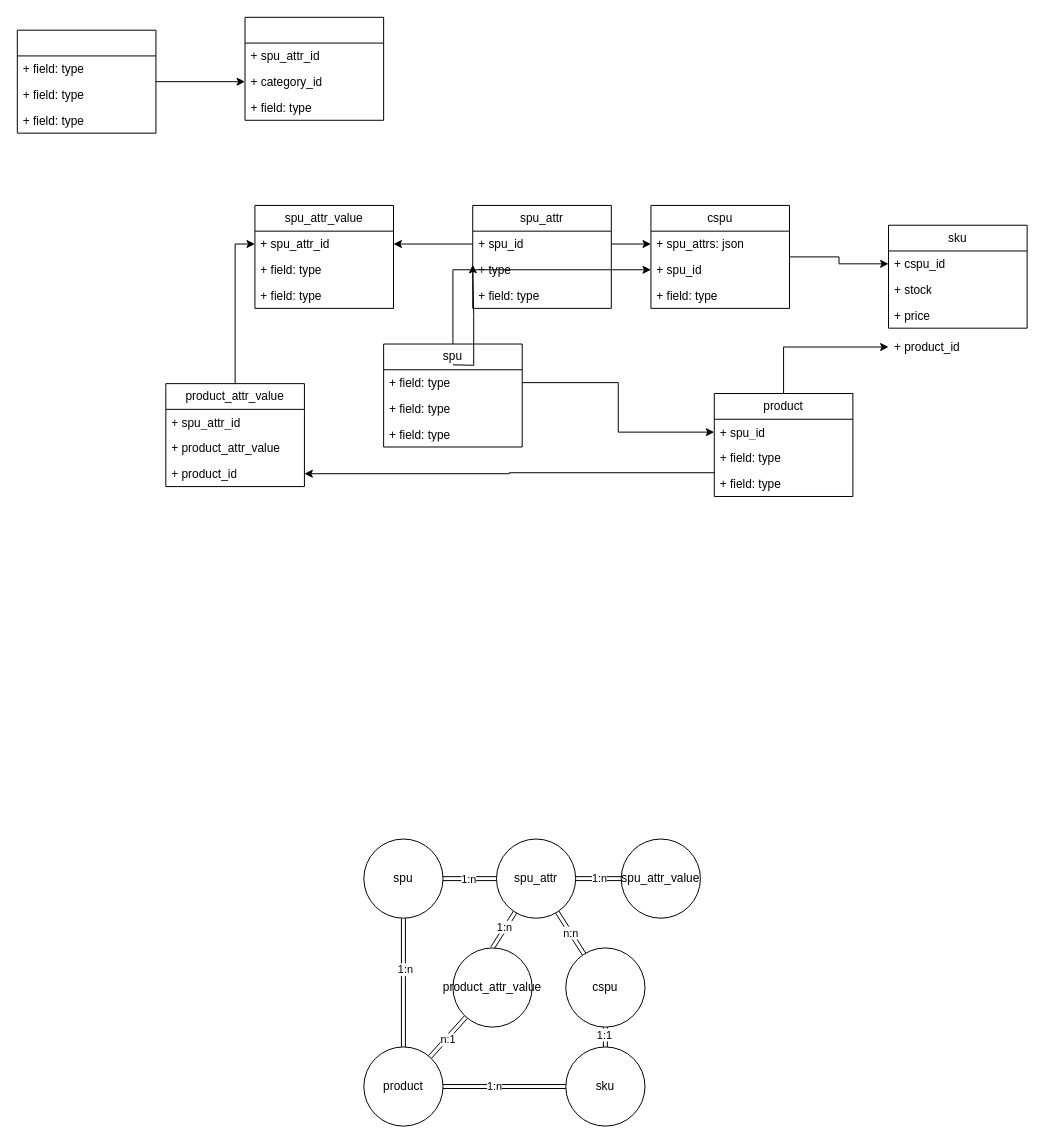
This 1044x1143 diagram has some shape labels left out. The shapes that lost their labels are listed below. From the top down, each one's box as (x1, y1, x2, y2) in pixels, then its label:
(16, 29, 156, 133): category
(244, 16, 384, 120): category_attr
